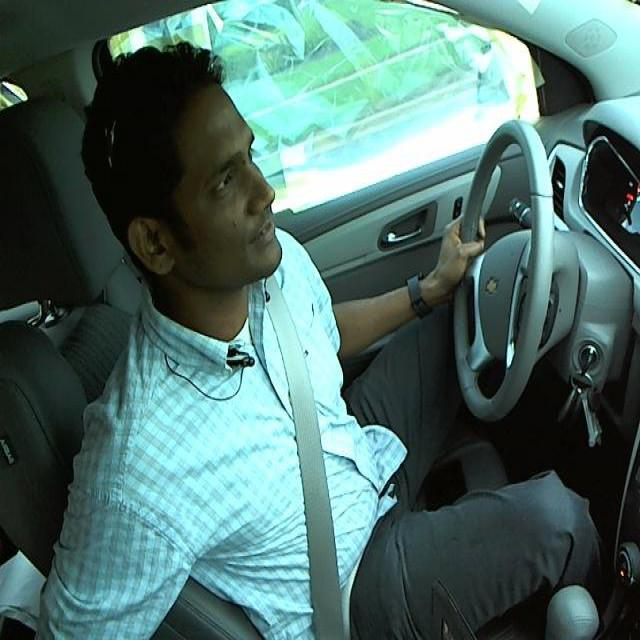seatbelt: (243, 293, 365, 639)
